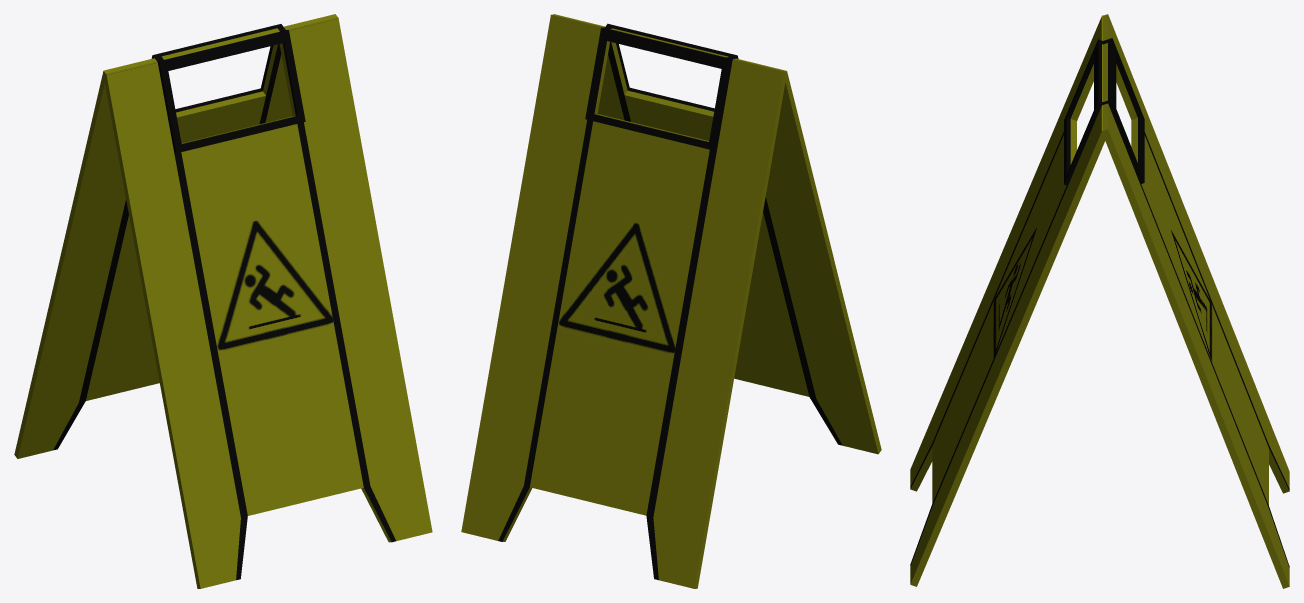
The model's file is pisomojado.fbx.
3 renders of one model, left to right at view 1: azimuth 30°, elevation 25°; view 2: azimuth 150°, elevation 25°; view 3: azimuth 270°, elevation 25°, orthographic.
Parts seen in each view (by area): view 1: Cube.003; view 2: Cube.003; view 3: Cube.003.
Boxes of the visible parts, box(x1,y1,x2,y2) form: Cube.003: box(14, 14, 432, 588); Cube.003: box(461, 14, 881, 588); Cube.003: box(910, 14, 1289, 588).
Bounding box in the file's own units: 24.22 × 45.17 × 33.68.
Materials: 2 (1 with a texture image).
